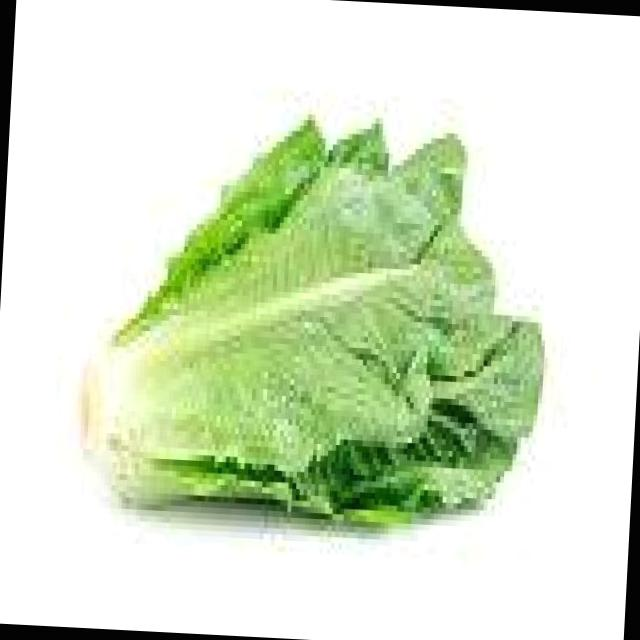Lettuce-Ready-to-Harvest: (108, 118, 541, 522)
